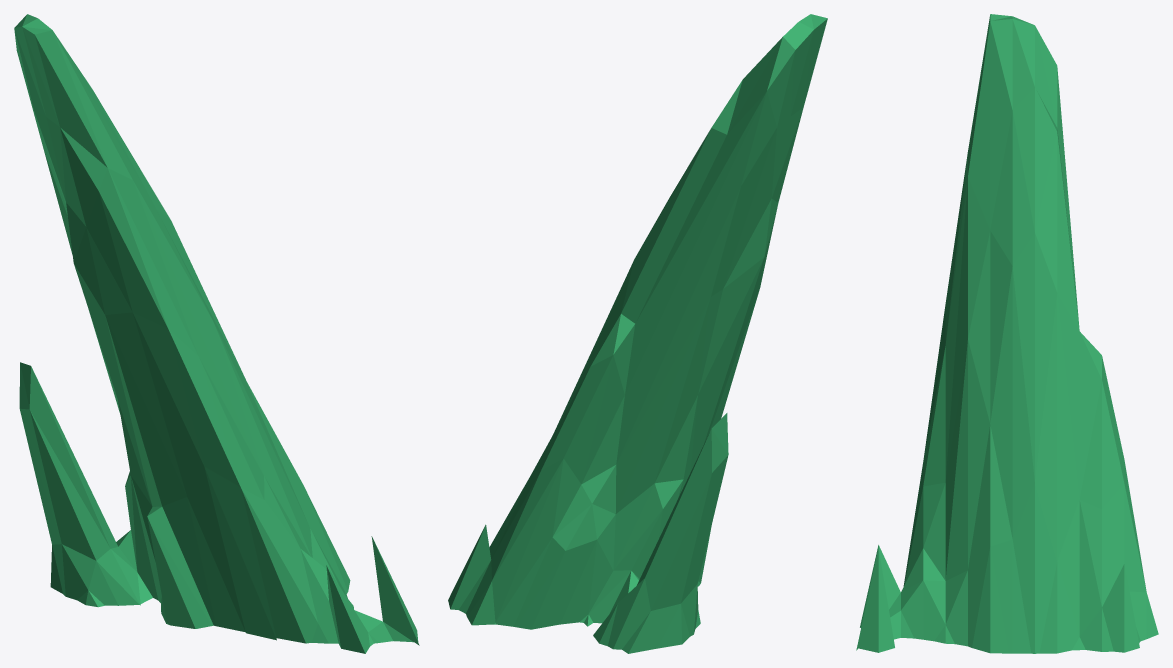
The model's file is Rock_Large_Gem_Jade_Emerald_Spike_Cluster_02.FBX.
3 renders of one model, left to right at view 1: azimuth 30°, elevation 25°; view 2: azimuth 150°, elevation 25°; view 3: azimuth 270°, elevation 25°, orthographic. The views are drawn at different scales.
Parts seen in each view (by area): view 1: Rock_Large_Gem_Jade_Emerald_Spike_Cluster_02; view 2: Rock_Large_Gem_Jade_Emerald_Spike_Cluster_02; view 3: Rock_Large_Gem_Jade_Emerald_Spike_Cluster_02.
Part boxes in pixels (x1,y1,x2,y2): Rock_Large_Gem_Jade_Emerald_Spike_Cluster_02: (14,14,419,653); Rock_Large_Gem_Jade_Emerald_Spike_Cluster_02: (448,14,827,653); Rock_Large_Gem_Jade_Emerald_Spike_Cluster_02: (856,14,1158,653).
Bounding box in the file's own units: 10873 × 20573 × 10913.
